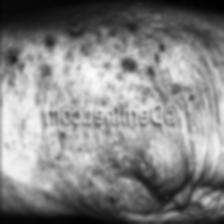Non-Cancerous Skin Condition: (38, 15, 174, 88), (45, 144, 157, 202), (0, 31, 23, 130)
